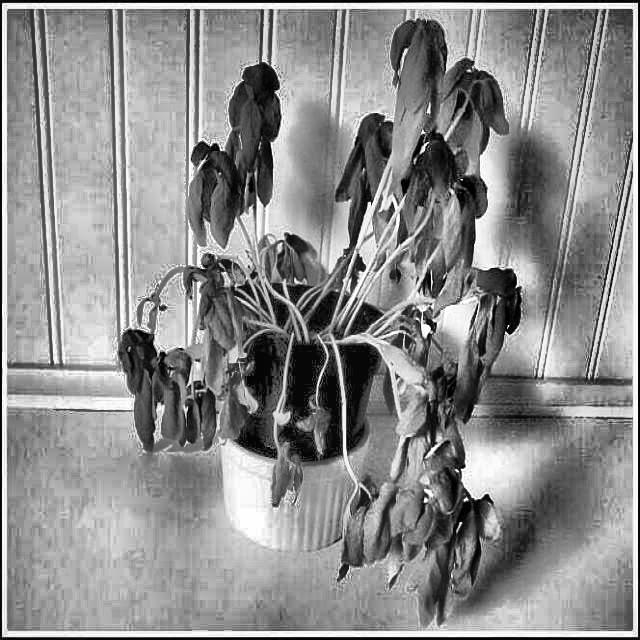plants: (333, 16, 510, 639), (98, 64, 288, 522)
